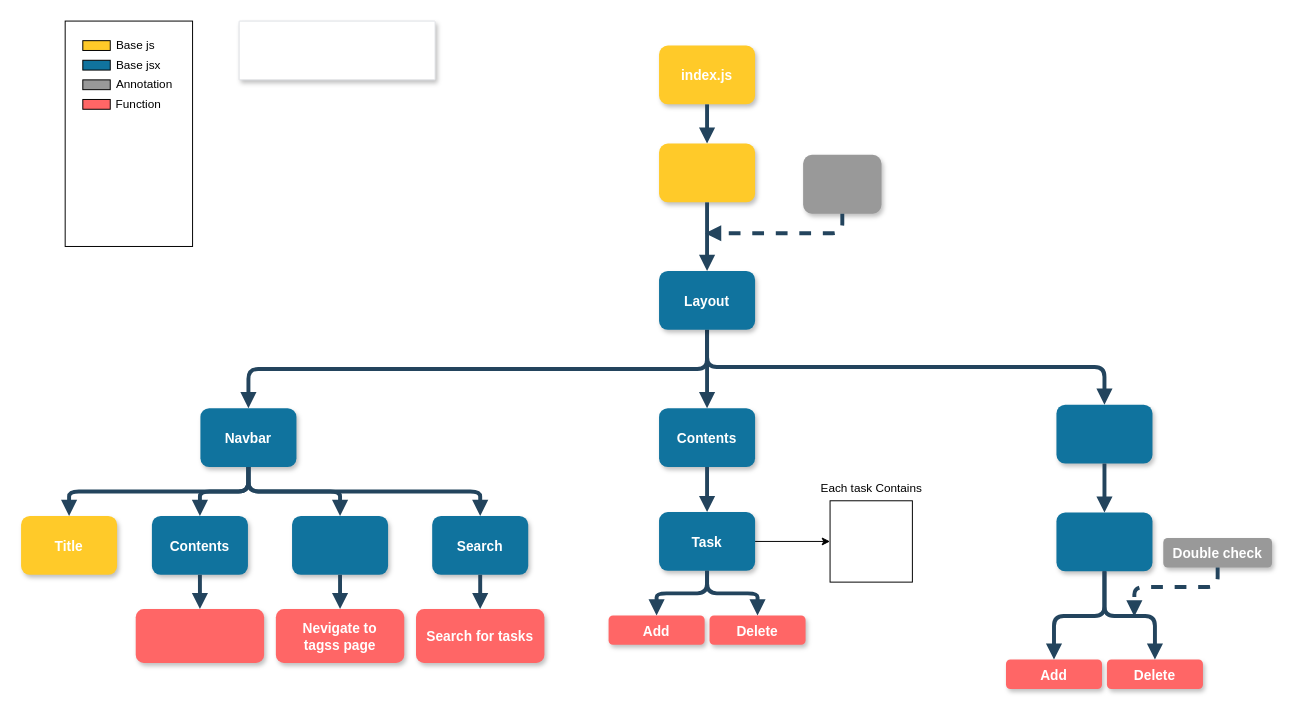
Some shapes in this 1295 by 712 pixel diagram are drawn without their labels. Here are the shapes that lost their labels. From the top down, the centre of each, then its label:
At point 337,51: "This is the base arrangment of the todo application.".
At point 707,174: "app.js".
At point 843,185: "router".
At point 1105,435: "Sidebar (L)".
At point 340,546: "Tags".
At point 870,541: "Task name Due time Tags Notations id".
At point 1105,543: "Repos".
At point 200,637: "Nevigate to contents page".
